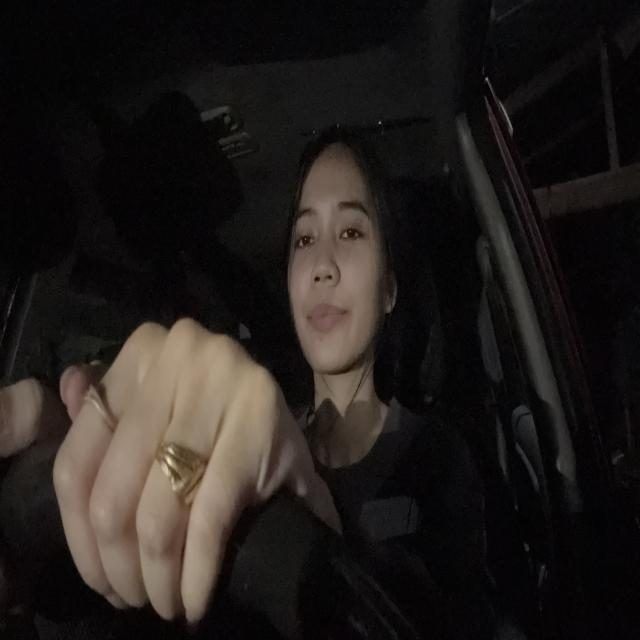open: (334, 198, 373, 252), (289, 202, 319, 260)
